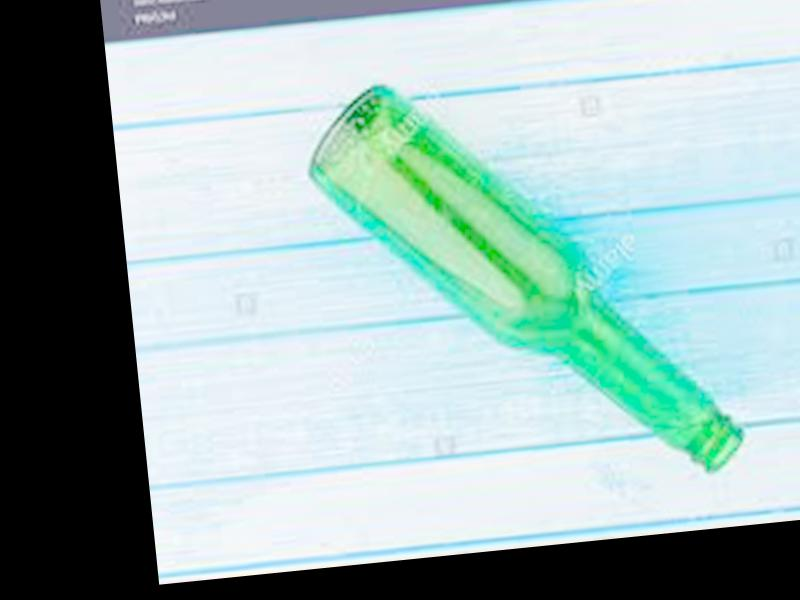Beer: (295, 44, 751, 512)
